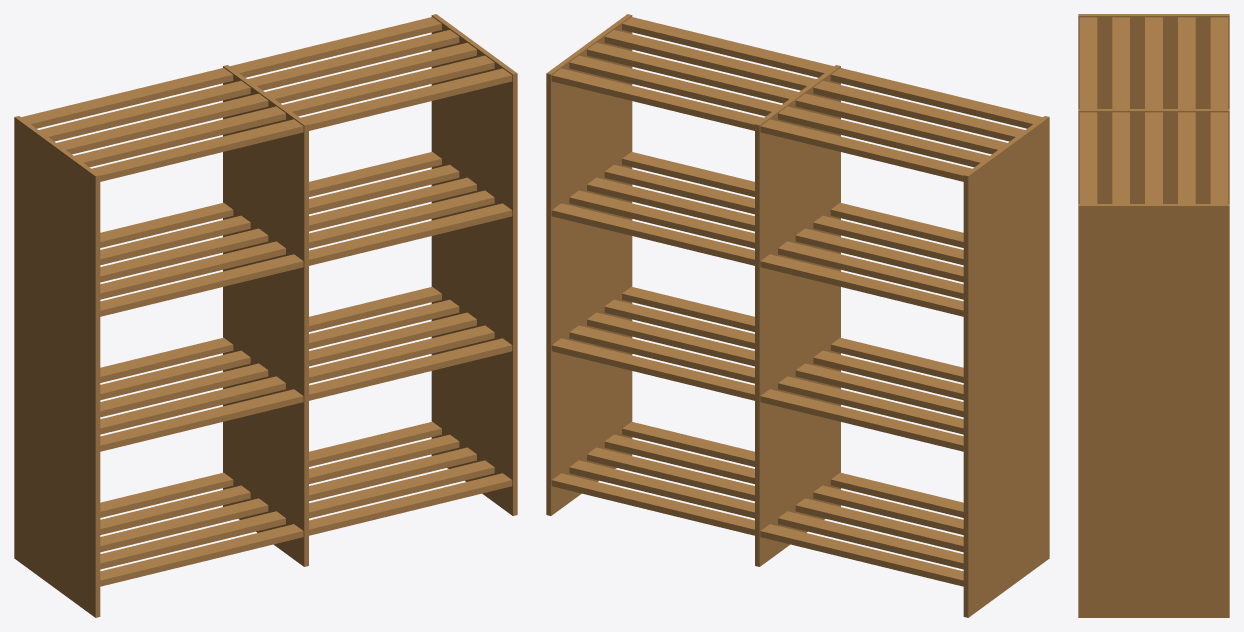
The model's file is parametric-rack-3rd.glb.
The picture shows the model from 3 angles, left to right: view 1: azimuth 30°, elevation 25°; view 2: azimuth 150°, elevation 25°; view 3: azimuth 270°, elevation 25°; orthographic projection. The views are drawn at different scales.
Visible parts, largest first — view 1: parametric-rack-3rd; view 2: parametric-rack-3rd; view 3: parametric-rack-3rd.
Part boxes in pixels (bbox=[...]): parametric-rack-3rd: bbox=[14, 14, 517, 617]; parametric-rack-3rd: bbox=[546, 14, 1049, 617]; parametric-rack-3rd: bbox=[1078, 14, 1229, 617].
Bounding box in the file's own units: 1.8 × 1.8 × 0.6.
